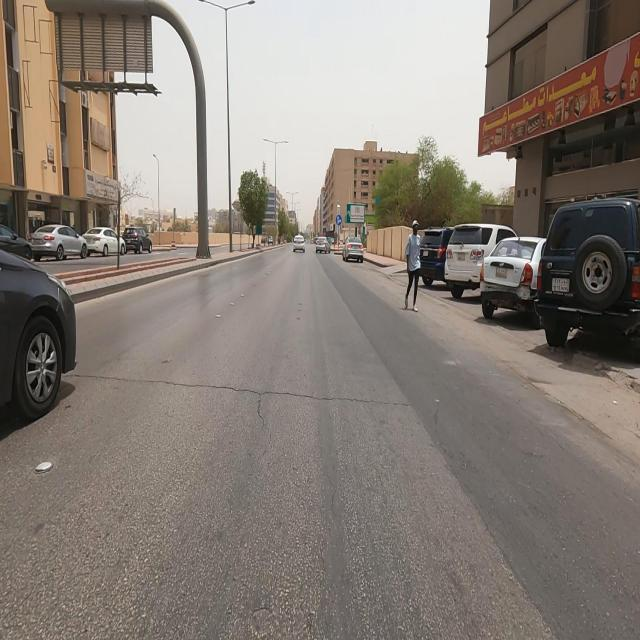debris: (44, 144, 164, 243)
